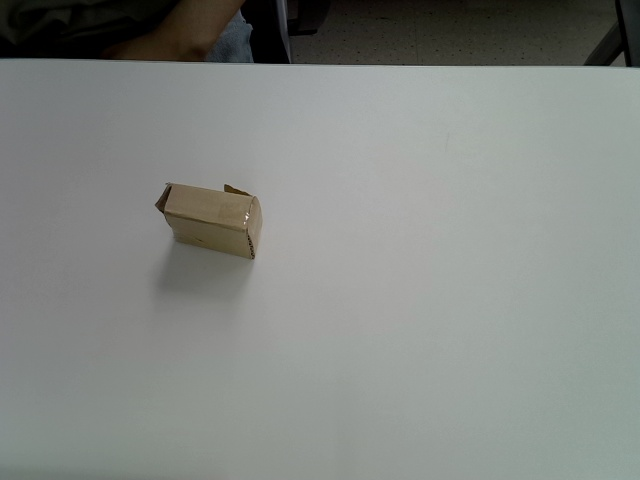defect: (153, 181, 264, 261)
